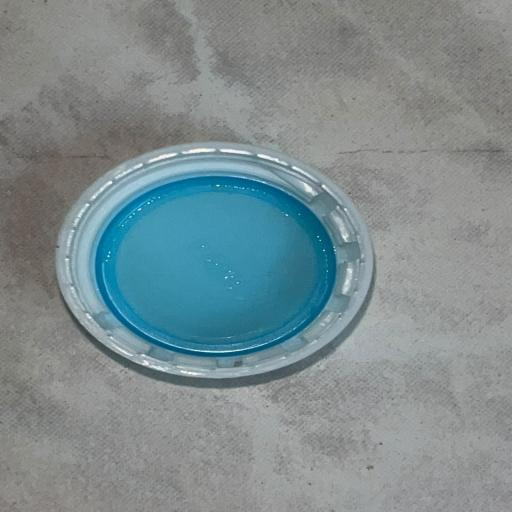HDPE: (0, 93, 477, 466)
